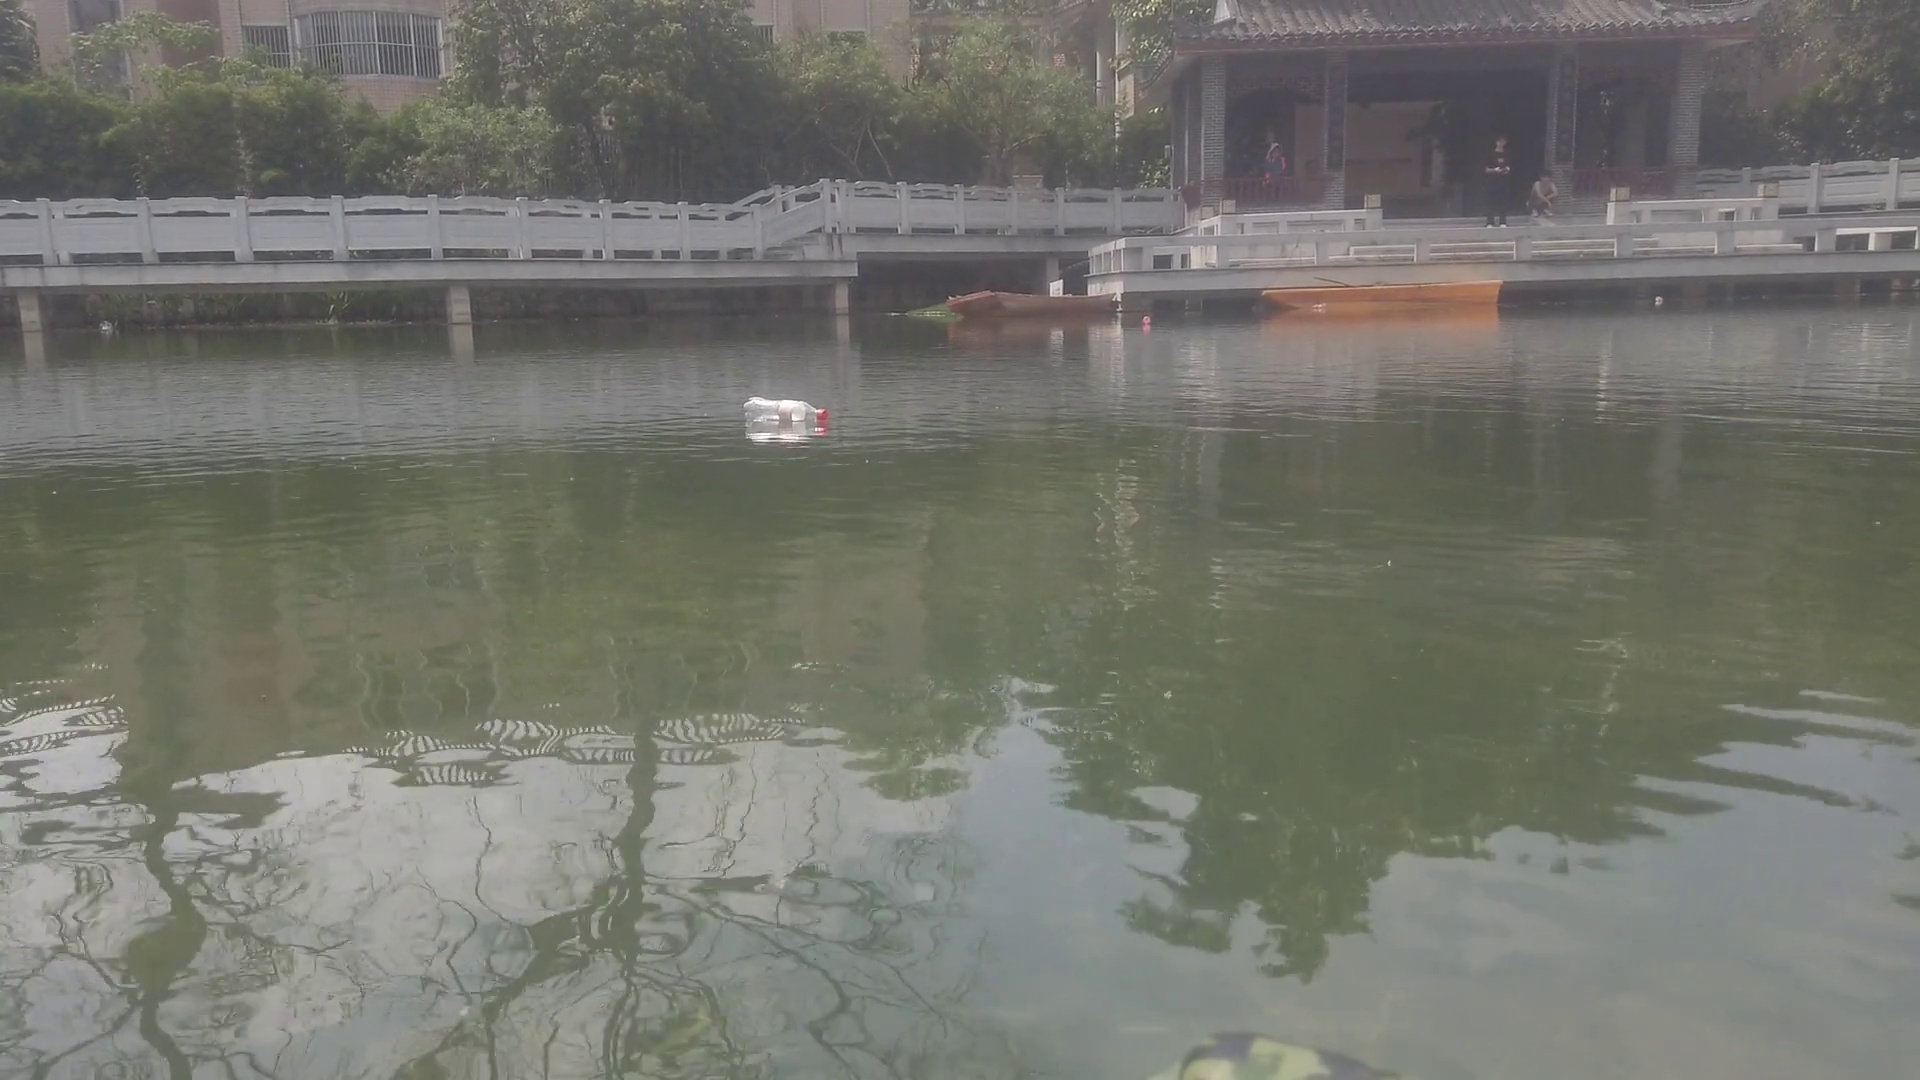bottle: (741, 396, 827, 425), (1138, 314, 1155, 326), (1312, 299, 1328, 311), (1650, 294, 1665, 305)
